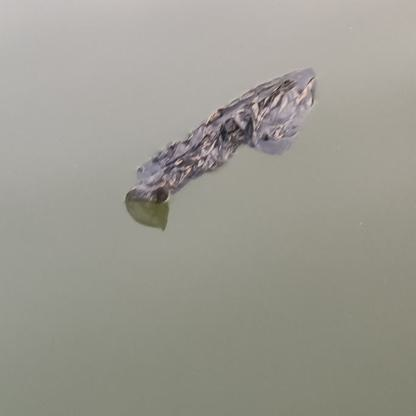plastic bag: (124, 65, 314, 232)
